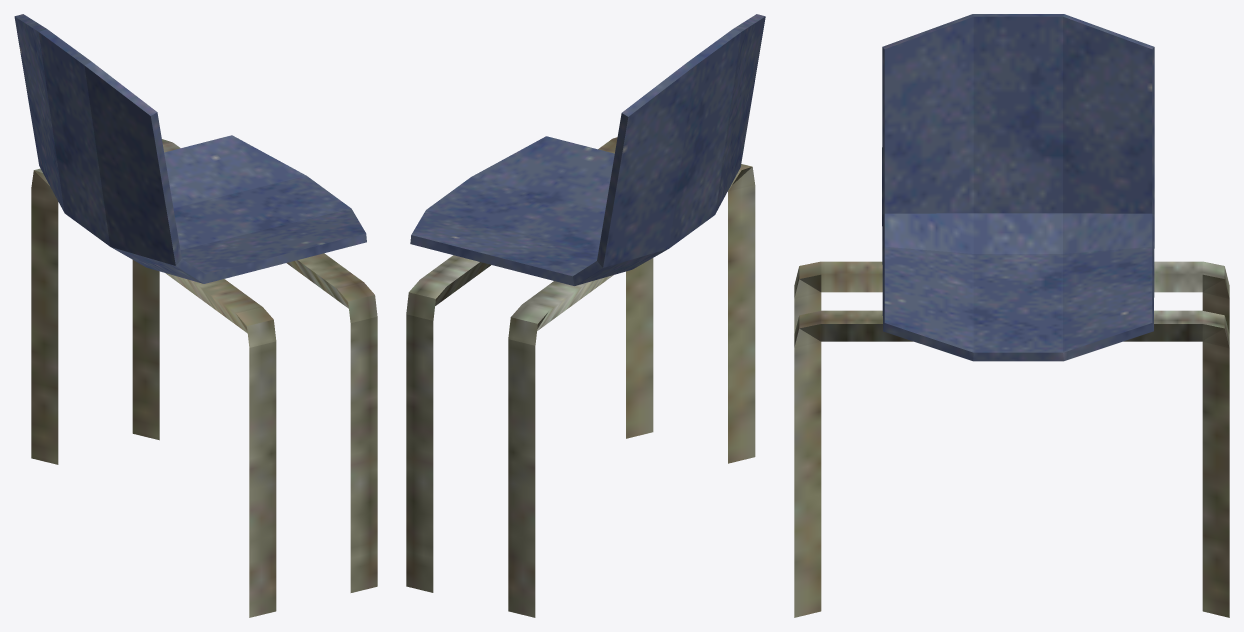
Rendered from Urban_BusstopSingleSeatAlt_Model.fbx.
3 renders of one model, left to right at view 1: azimuth 30°, elevation 25°; view 2: azimuth 150°, elevation 25°; view 3: azimuth 270°, elevation 25°, orthographic.
Visible parts, largest first — view 1: Urban_BusstopSingleSeatAlt_Mesh; view 2: Urban_BusstopSingleSeatAlt_Mesh; view 3: Urban_BusstopSingleSeatAlt_Mesh.
Part boxes in pixels (left/top/right/bottom): Urban_BusstopSingleSeatAlt_Mesh: left=14, top=14, right=377, bottom=617; Urban_BusstopSingleSeatAlt_Mesh: left=406, top=14, right=765, bottom=617; Urban_BusstopSingleSeatAlt_Mesh: left=794, top=14, right=1229, bottom=617.
Size of the model in its own units: 0.692 by 1.25 by 0.9766.
